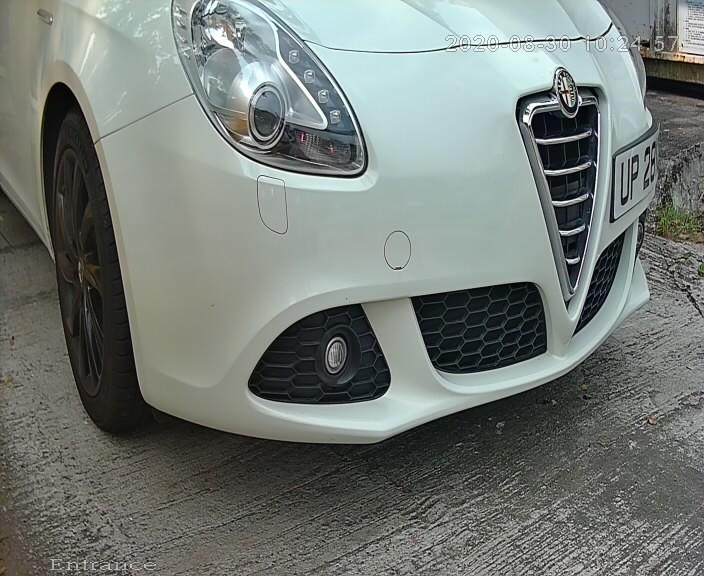Car: (29, 1, 651, 469)
